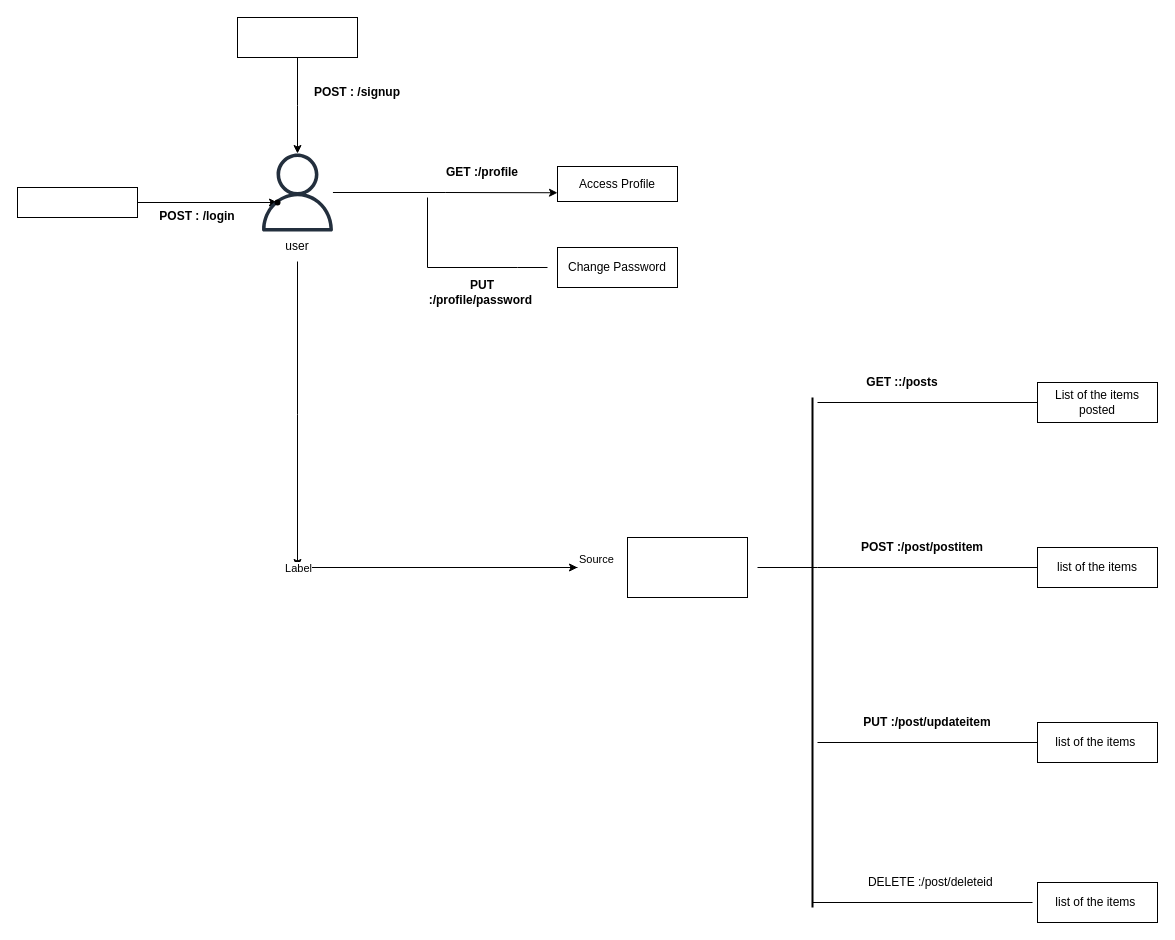
This 1175x940 diagram has some shape labels left out. The shapes that lost their labels are listed below. From the top down, each one's centre as x and y in pixels, then its label:
At [297,37]: "Create User".
At [77,202]: "User login".
At [687,567]: "Post".
